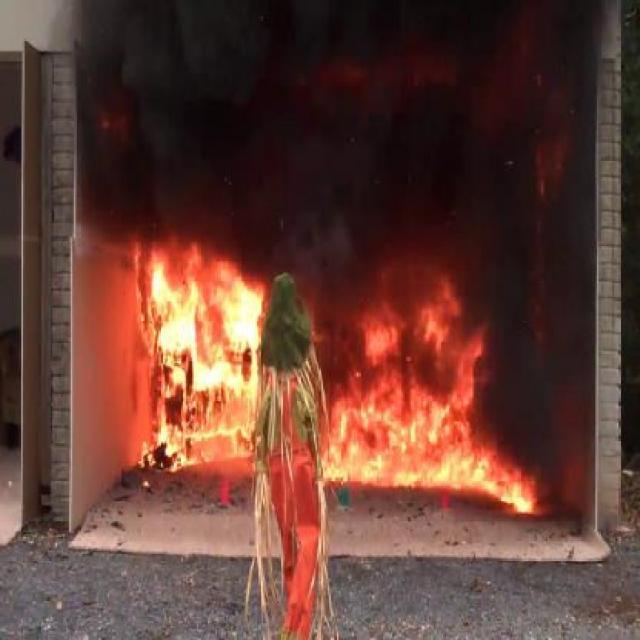fire: (130, 252, 564, 546)
smoke: (100, 20, 594, 220)
